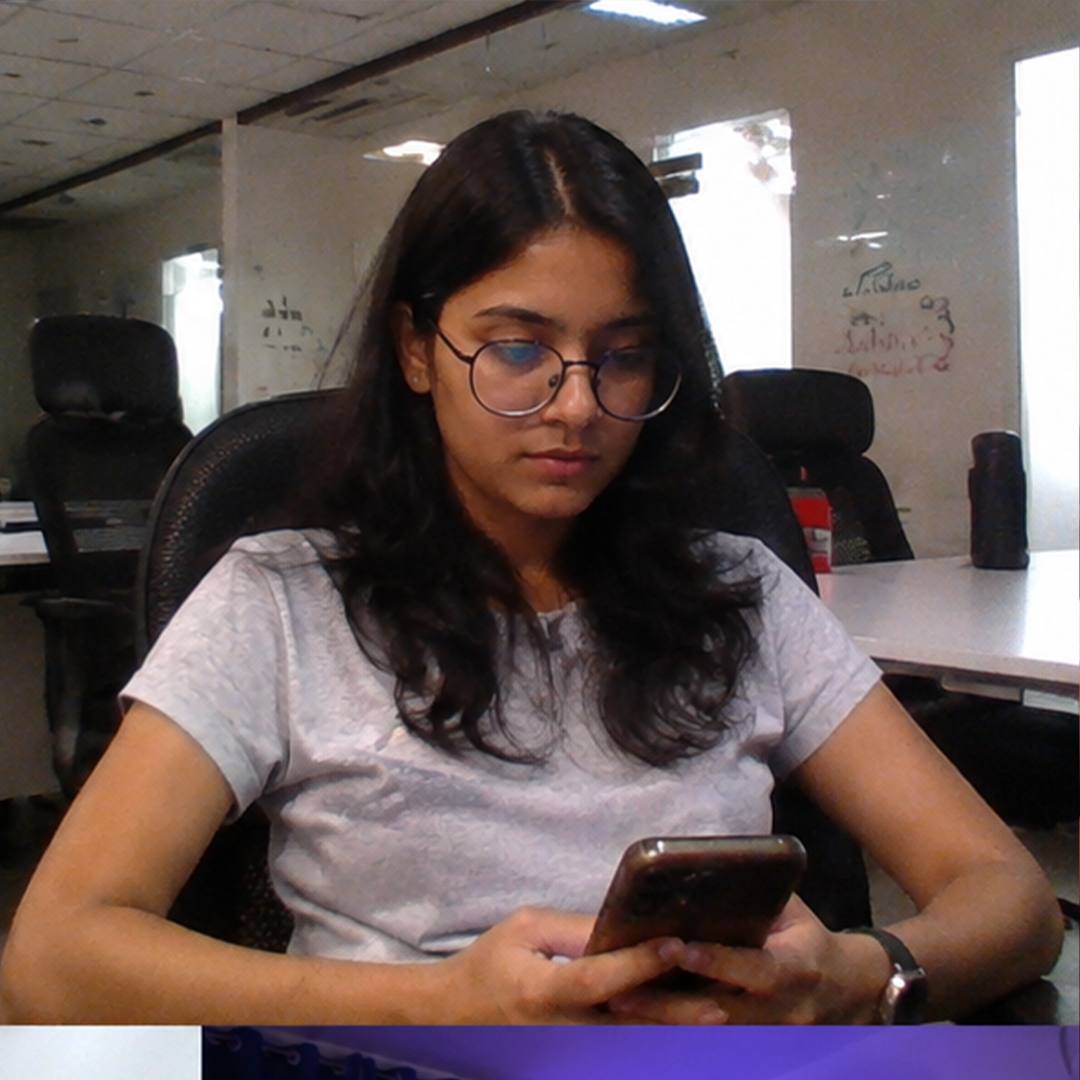distracted: (219, 90, 917, 1062)
